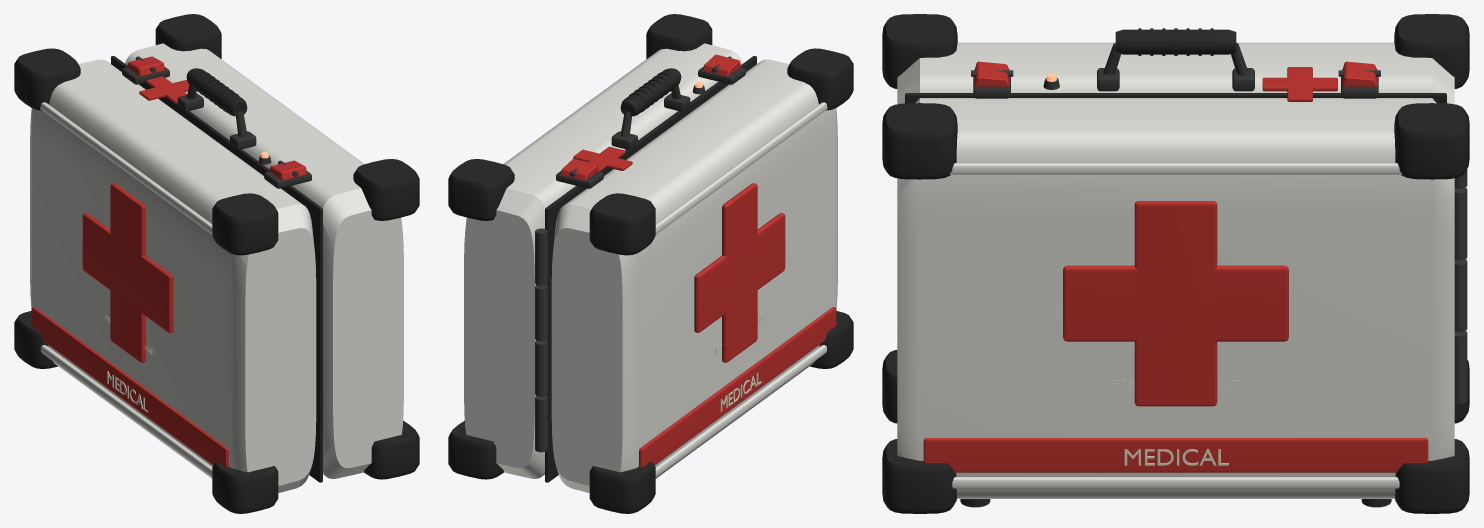
File: crate_health.glb
3 views of the same model, side by side, from view 1: azimuth 30°, elevation 25°; view 2: azimuth 150°, elevation 25°; view 3: azimuth 270°, elevation 25° (orthographic). The views are drawn at different scales.
Visible parts, largest first — view 1: Body; view 2: Body; view 3: Body.
Boxes of the visible parts, left/top/right/bottom form: Body: left=14, top=14, right=419, bottom=513; Body: left=448, top=14, right=853, bottom=513; Body: left=882, top=14, right=1469, bottom=513.
Size of the model in its own units: 0.38 by 0.6436 by 0.78.
